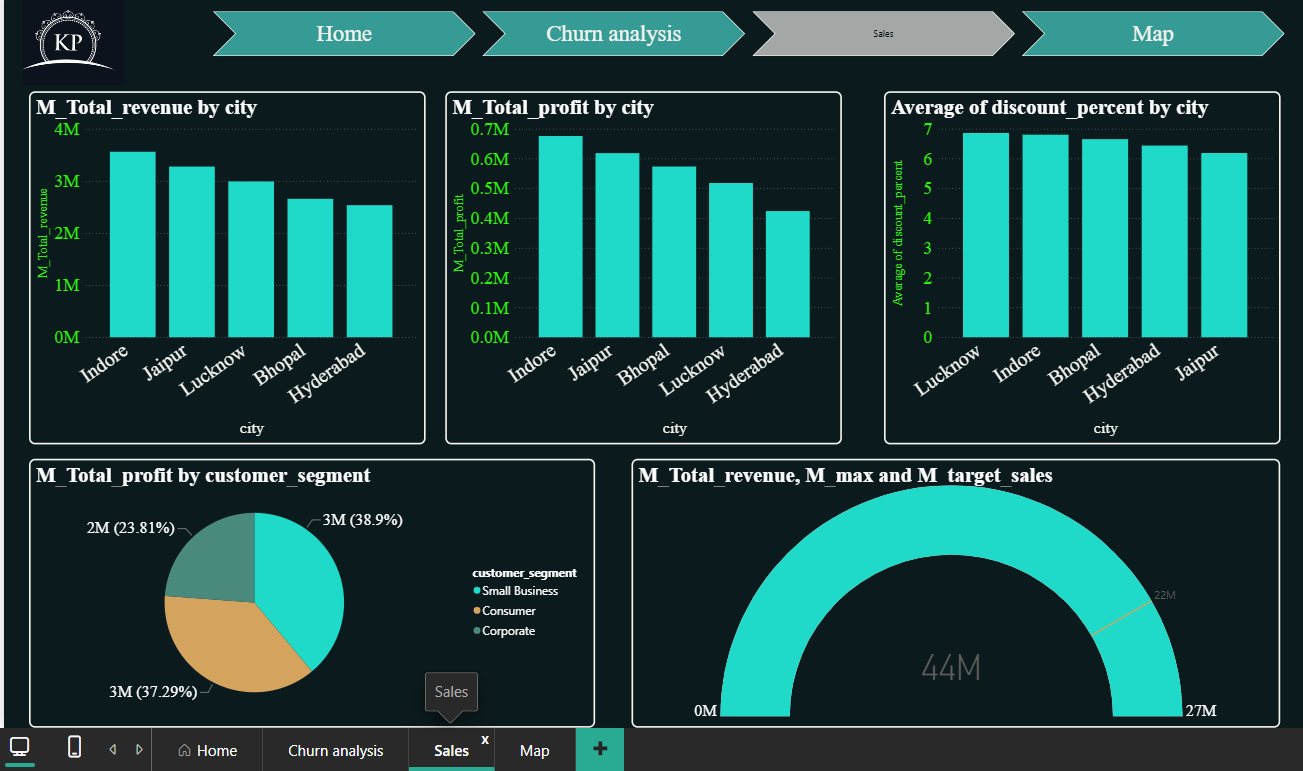

This screenshot's page, from the dashboard's own definition file:
{"tool":"powerbi","page":{"name":"Sales","canvas":[1920,1080],"ordinal":2},"visuals":[{"type":"columnChart","fields":{"Category":["customers_clean.city"],"Y":["orders_cleaned2.M_Total_revenue"]},"box":[36.2,141.3,584,520],"z":0},{"type":"columnChart","fields":{"Category":["customers_clean.city"],"Y":["orders_cleaned2.M_Total_profit"]},"box":[650.4,141.3,584,520],"z":1000},{"type":"columnChart","fields":{"Category":["customers_clean.city"],"Y":["Avg(orders_cleaned2.discount_percent)"]},"box":[1295.3,141.3,584,520],"z":2000},{"type":"pieChart","fields":{"Category":["customers_clean.customer_segment"],"Y":["orders_cleaned2.M_Total_profit"]},"box":[36.8,682.8,833.7,395.7],"z":4000},{"type":"gauge","fields":{"Y":["orders_cleaned2.M_Total_revenue"],"MaxValue":["orders_cleaned2.M_max"],"TargetValue":["orders_cleaned2.M_target_sales"]},"box":[923.9,682.8,955.2,395.7],"z":5000},{"type":"pageNavigator","box":[307.4,23.9,1581,66.3],"z":5001},{"type":"image","box":[27.6,0,149.1,132.5],"z":5002}]}

Visuals, with their boxes on the page's 1920x1080 design canvas (x1, y1, x2, y2). These are canvas units, not pixel positions in the 1303x771 screenshot, which may show the page scaled, cropped or inside an application window:
columnChart - customers_clean.city x orders_cleaned2.M_Total_revenue: box=[36, 141, 620, 661]
columnChart - customers_clean.city x orders_cleaned2.M_Total_profit: box=[650, 141, 1234, 661]
columnChart - customers_clean.city x Avg(orders_cleaned2.discount_percent): box=[1295, 141, 1879, 661]
pieChart - customers_clean.customer_segment x orders_cleaned2.M_Total_profit: box=[37, 683, 870, 1078]
gauge - orders_cleaned2.M_Total_revenue x orders_cleaned2.M_max: box=[924, 683, 1879, 1078]
pageNavigator: box=[307, 24, 1888, 90]
image: box=[28, 0, 177, 132]
